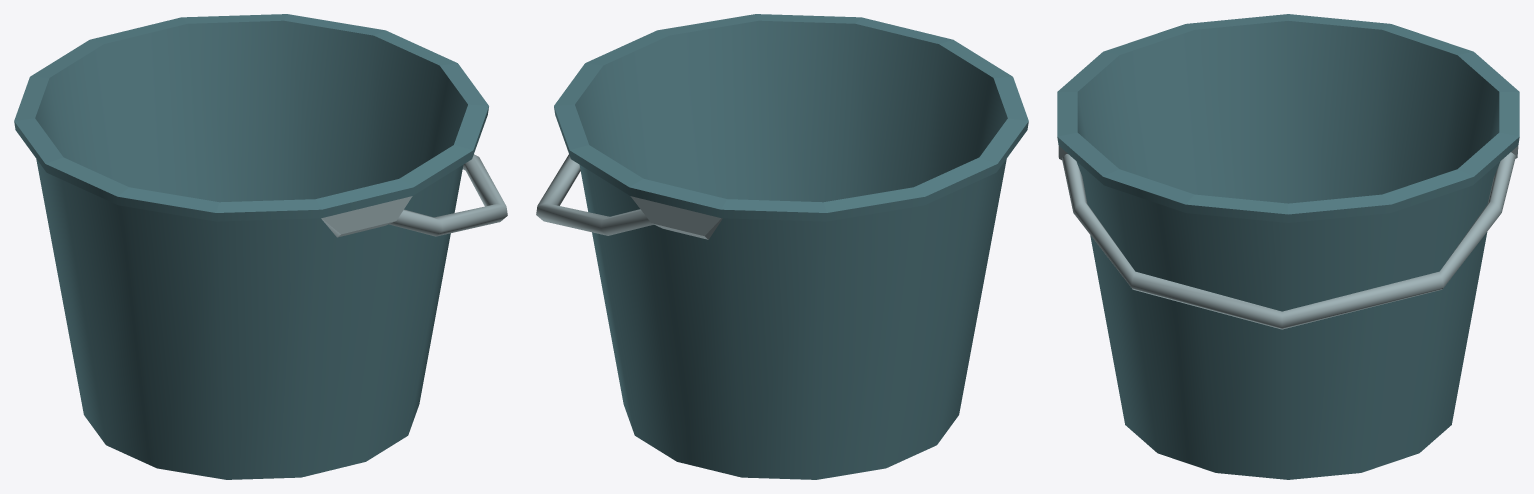
Rendered from SM_Bucket_01.fbx.
3 renders of one model, left to right at view 1: azimuth 30°, elevation 25°; view 2: azimuth 150°, elevation 25°; view 3: azimuth 270°, elevation 25°, orthographic.
Visible parts, largest first — view 1: SM_Bucket_01; view 2: SM_Bucket_01; view 3: SM_Bucket_01.
Part boxes in pixels (x1=…): SM_Bucket_01: x1=14, y1=14, x2=507, y2=479; SM_Bucket_01: x1=536, y1=14, x2=1028, y2=479; SM_Bucket_01: x1=1057, y1=14, x2=1519, y2=479.
Bounding box in the file's own units: 57.27 × 37.84 × 53.41.
Materials: 1 (1 with a texture image).
